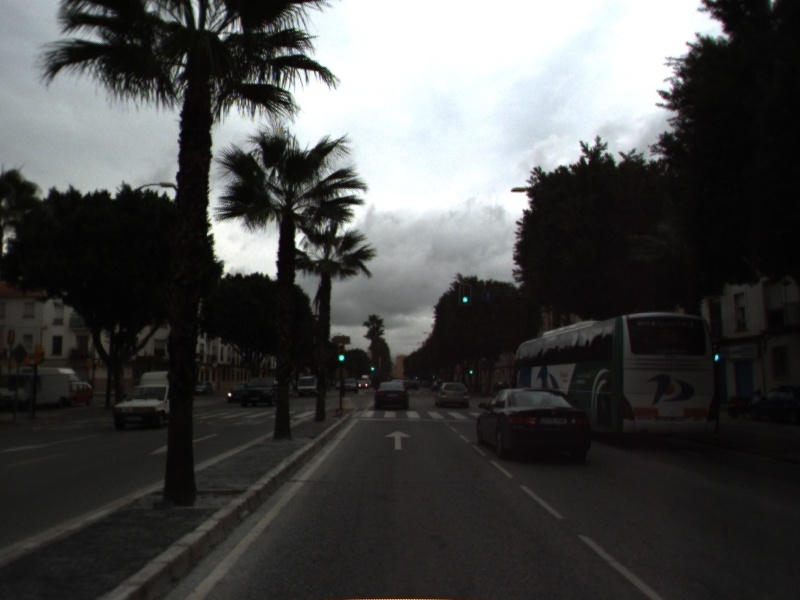STRAIGHT: (382, 428, 413, 451)
